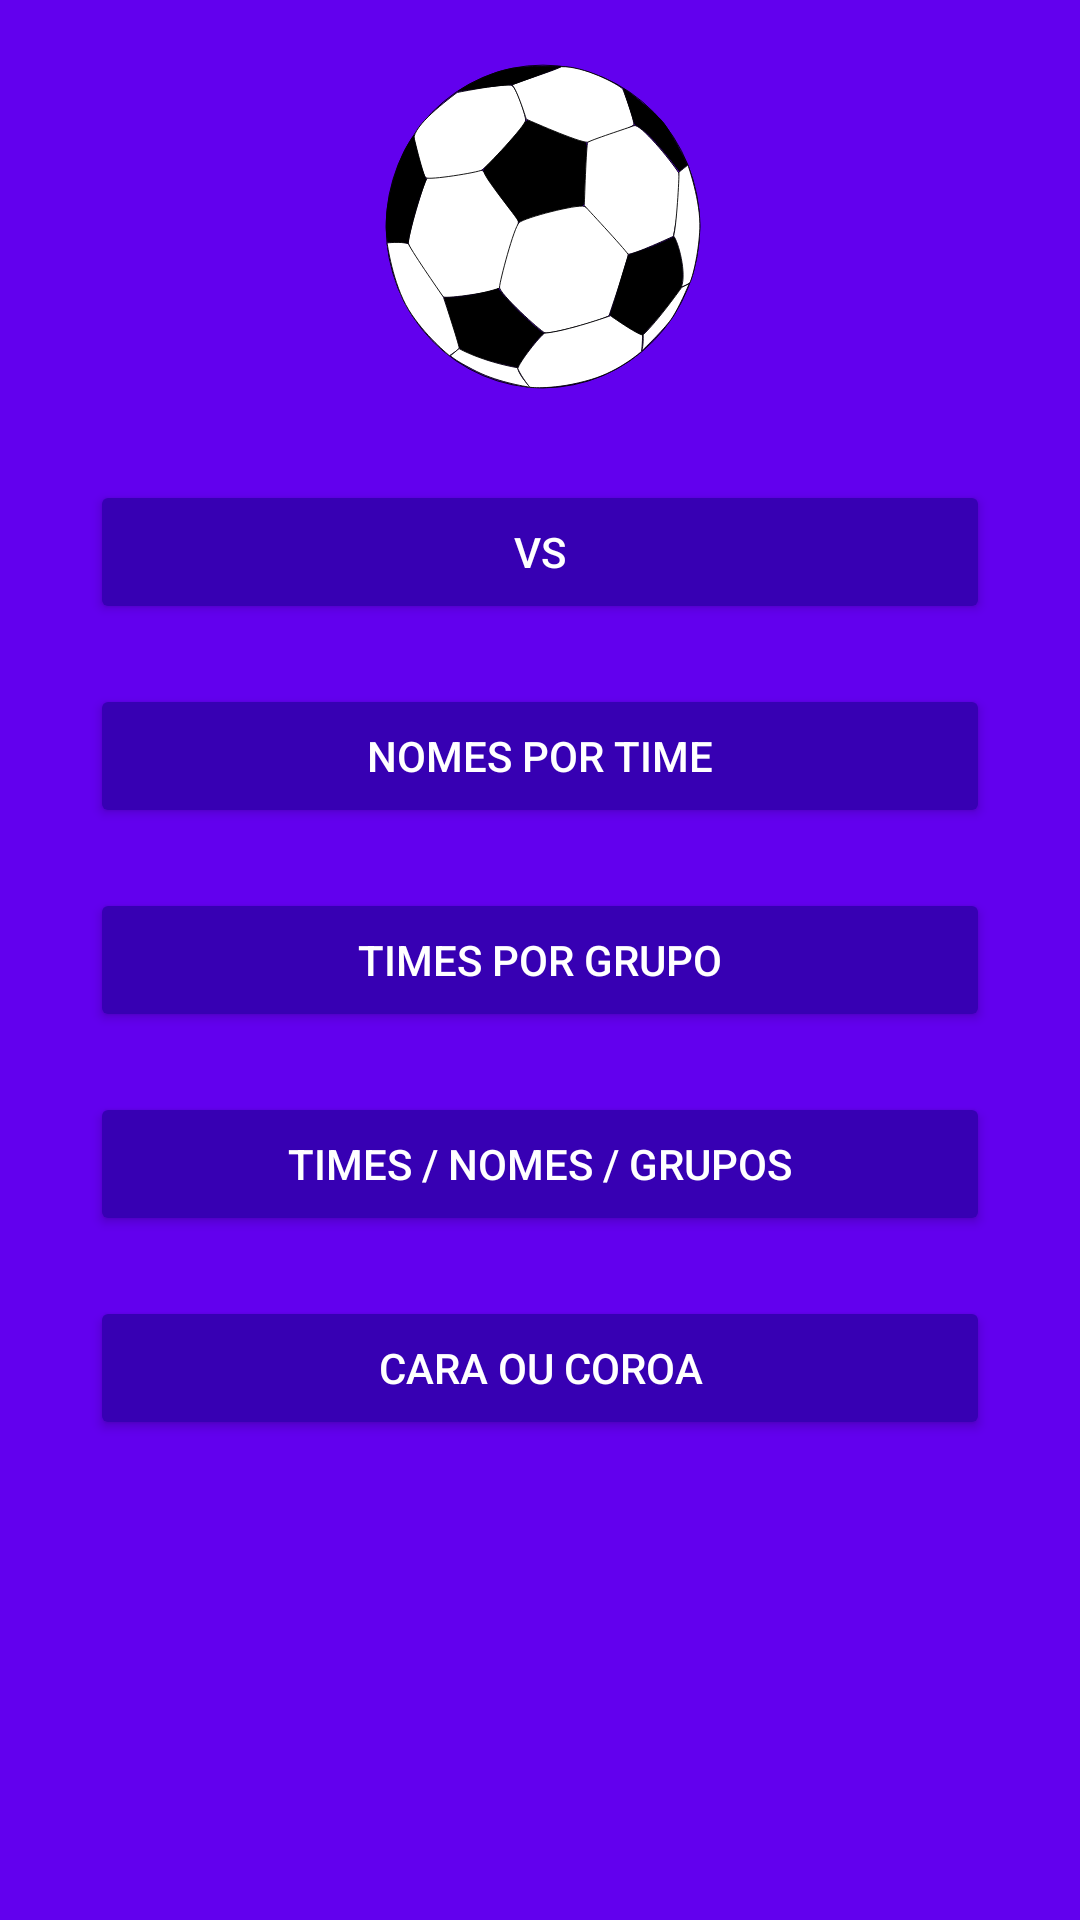

Named icons in this screenshot (1080×1920) and their centers, point (x, y):
football: point (543, 226)
